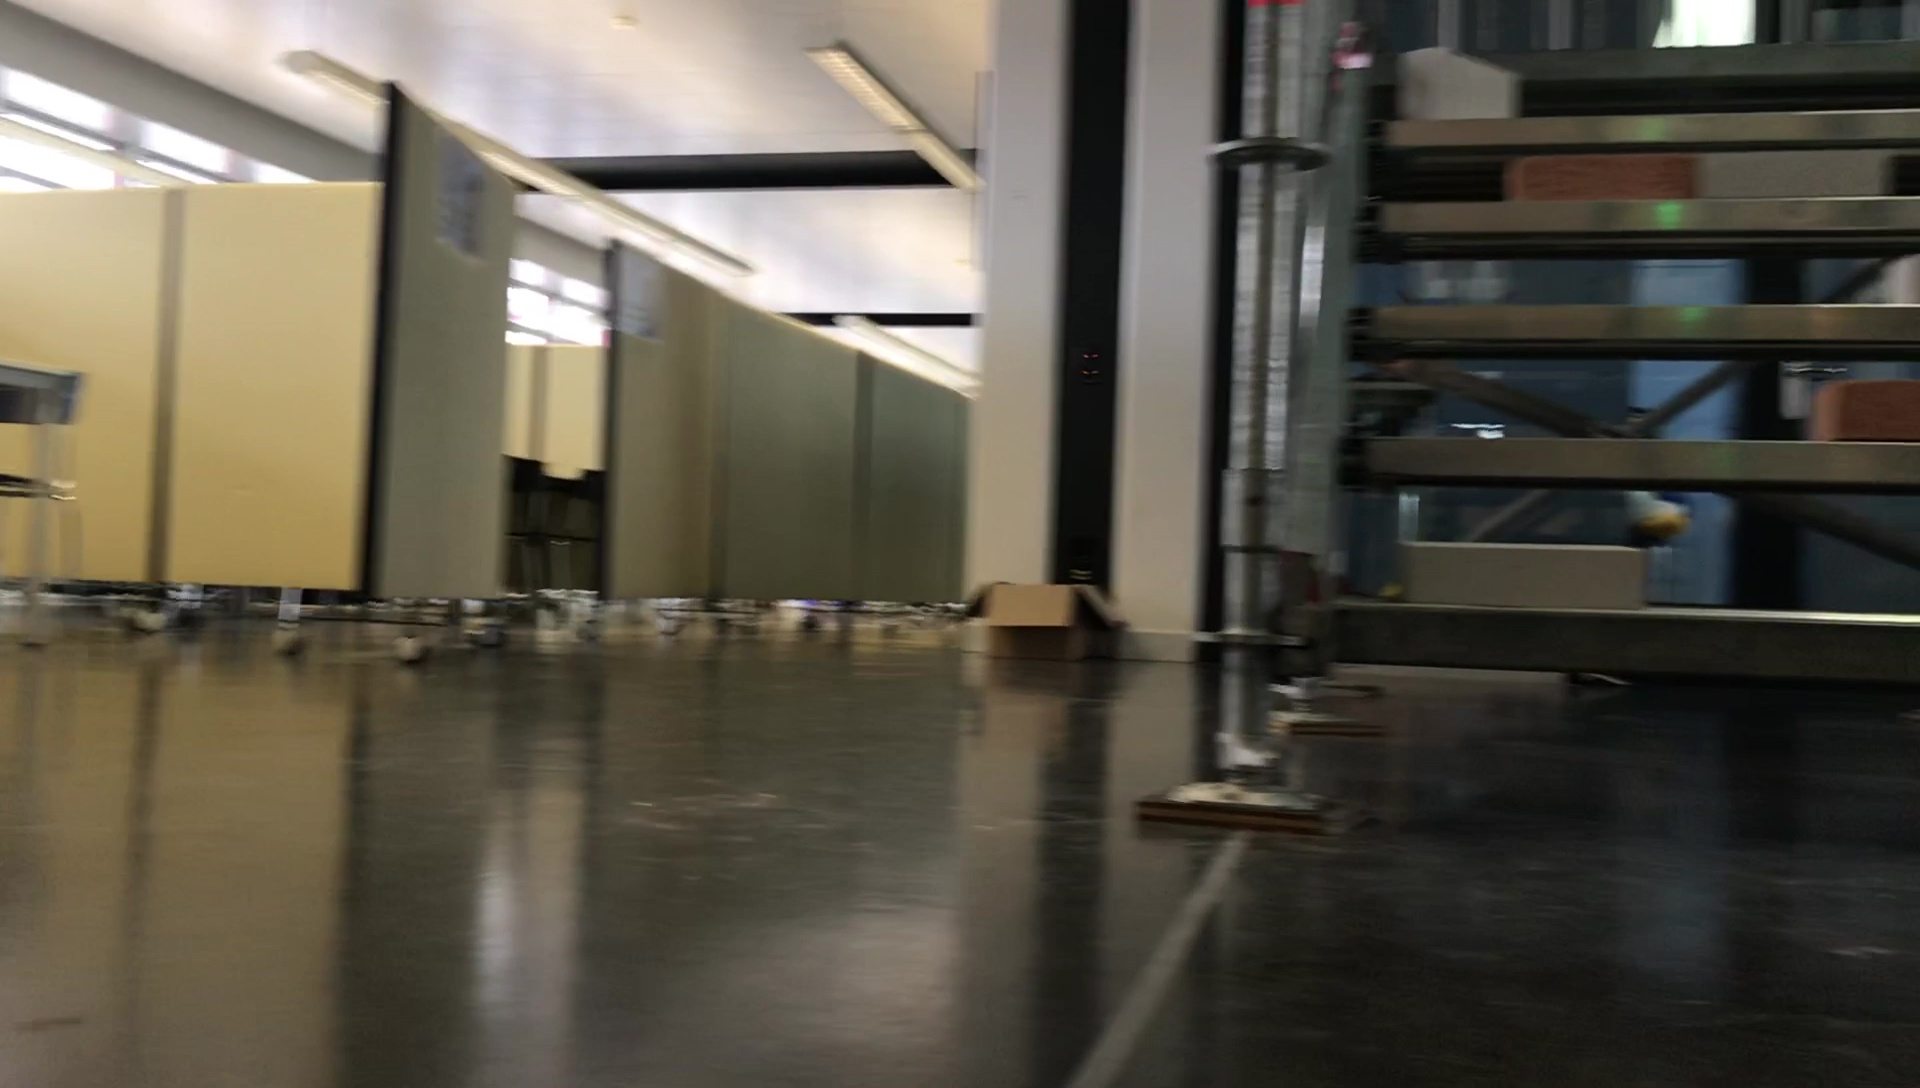brick: (1391, 533, 1658, 608), (1480, 153, 1677, 202), (1685, 152, 1894, 198), (1796, 378, 1920, 444), (1404, 55, 1518, 113)
edge: (1302, 40, 1920, 680), (1316, 607, 1920, 671), (1342, 427, 1920, 485), (1338, 299, 1920, 349), (1371, 106, 1920, 152), (1349, 200, 1920, 233), (1425, 47, 1920, 80)
